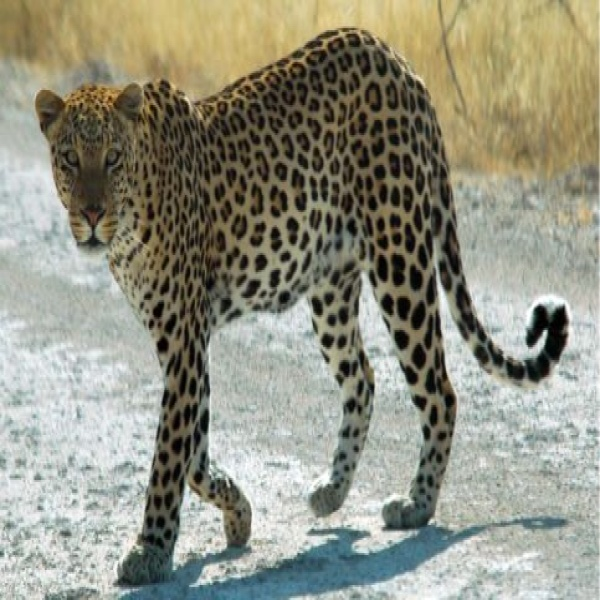Leopard: (29, 24, 578, 588)
